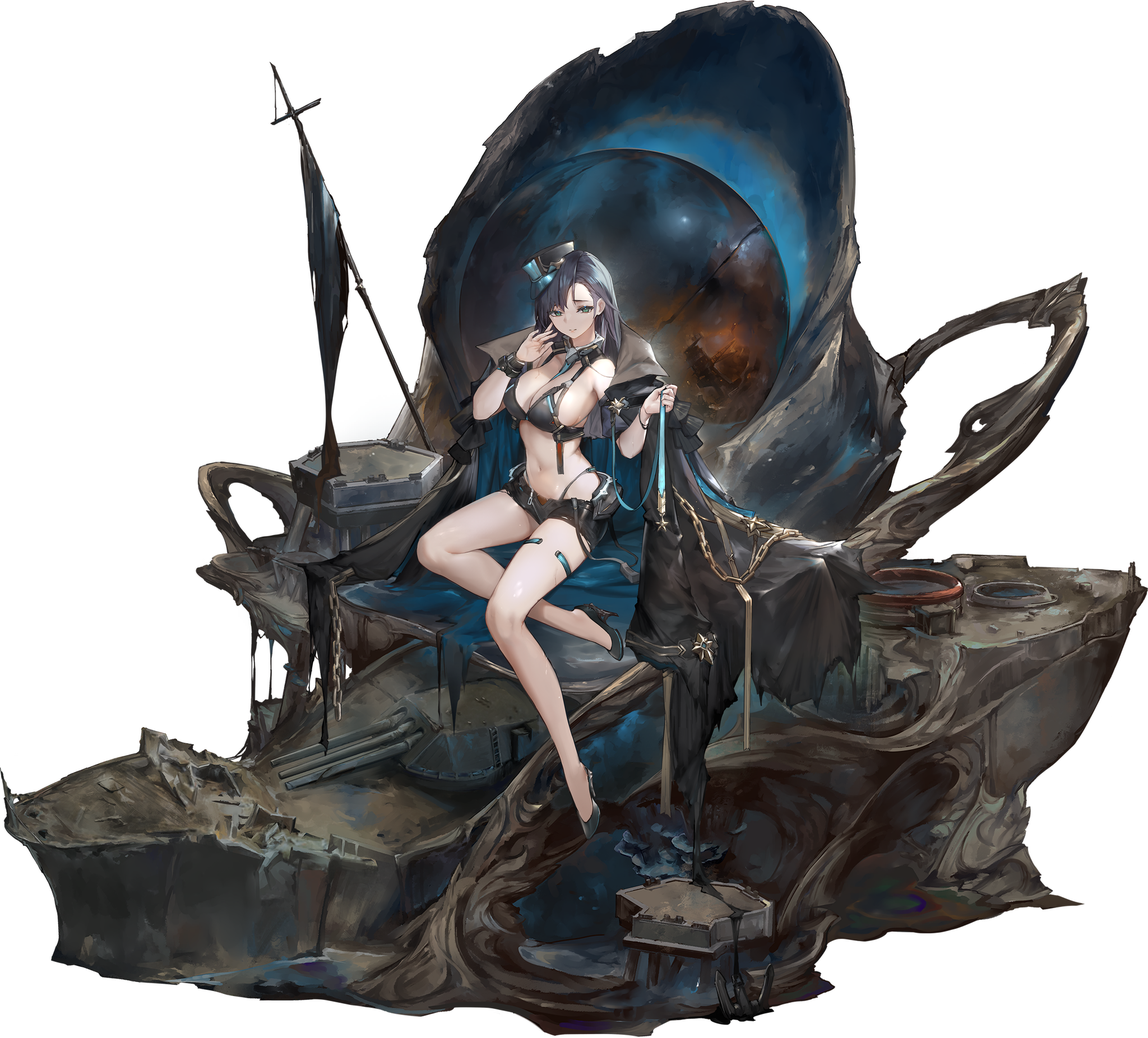person: (354, 213, 684, 897)
